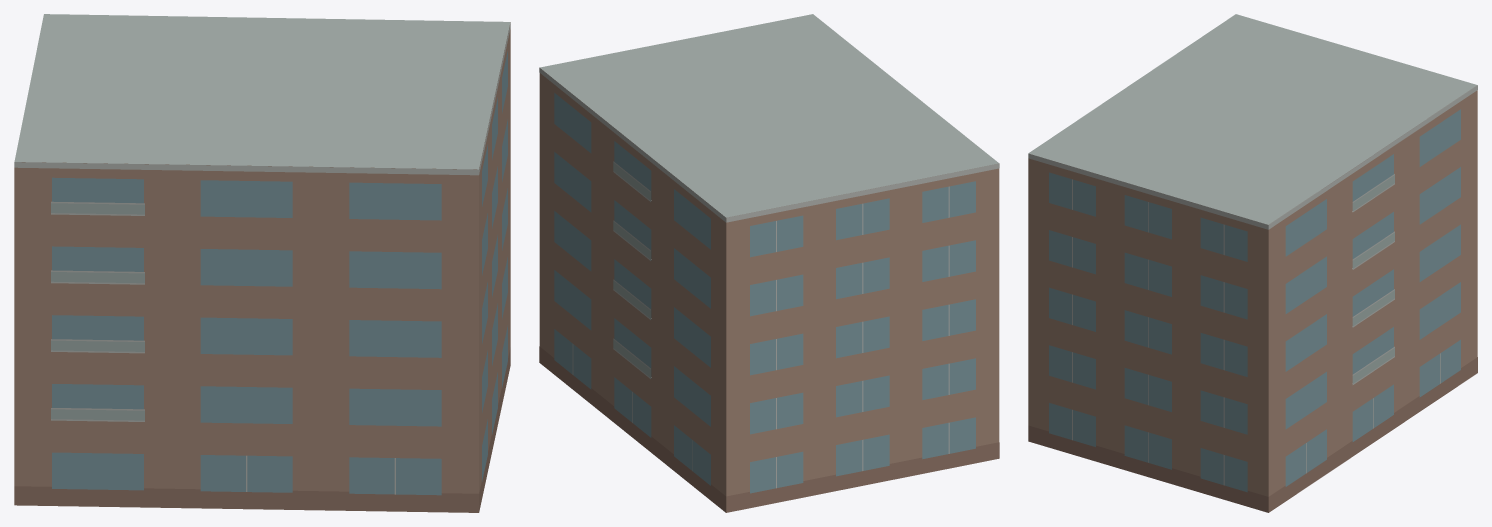
Rendered from survey-upis-33000243.glb.
3 views of the same model, side by side, from view 1: azimuth 30°, elevation 25°; view 2: azimuth 150°, elevation 25°; view 3: azimuth 270°, elevation 25° (orthographic). The views are drawn at different scales.
Visible parts, largest first — view 1: survey-upis-33000243.tmp; view 2: survey-upis-33000243.tmp; view 3: survey-upis-33000243.tmp.
Part boxes in pixels (x1=…): survey-upis-33000243.tmp: x1=14, y1=14, x2=510, y2=512; survey-upis-33000243.tmp: x1=539, y1=14, x2=999, y2=512; survey-upis-33000243.tmp: x1=1028, y1=14, x2=1477, y2=512.
Size of the model in its own units: 22.63 by 14.4 by 20.38.
